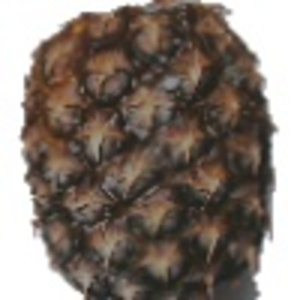abacaxi: (16, 3, 281, 298)
